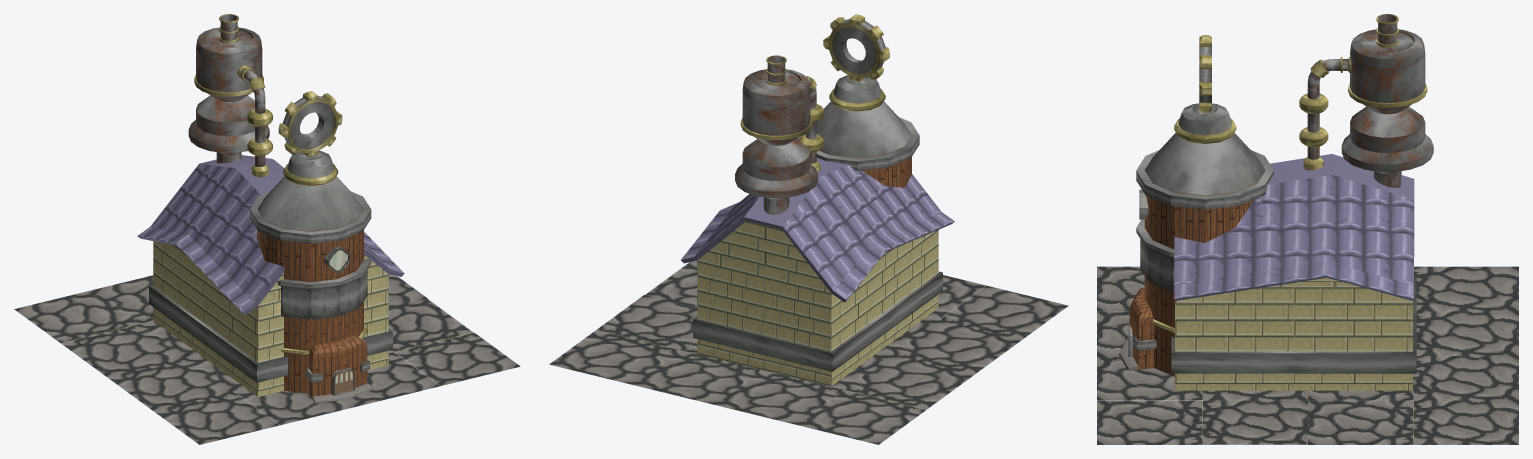
File: BoilerPlant.FBX
The picture shows the model from 3 angles, left to right: view 1: azimuth 30°, elevation 25°; view 2: azimuth 150°, elevation 25°; view 3: azimuth 270°, elevation 25°; orthographic projection. The views are drawn at different scales.
Visible parts, largest first — view 1: Box001; view 2: Box001; view 3: Box001.
Part boxes in pixels (x1=…): Box001: x1=14, y1=14, x2=520, y2=444; Box001: x1=549, y1=14, x2=1068, y2=444; Box001: x1=1097, y1=14, x2=1518, y2=444.
Size of the model in its own units: 78.74 by 70.47 by 78.74.
Materials: 1 (1 with a texture image).
